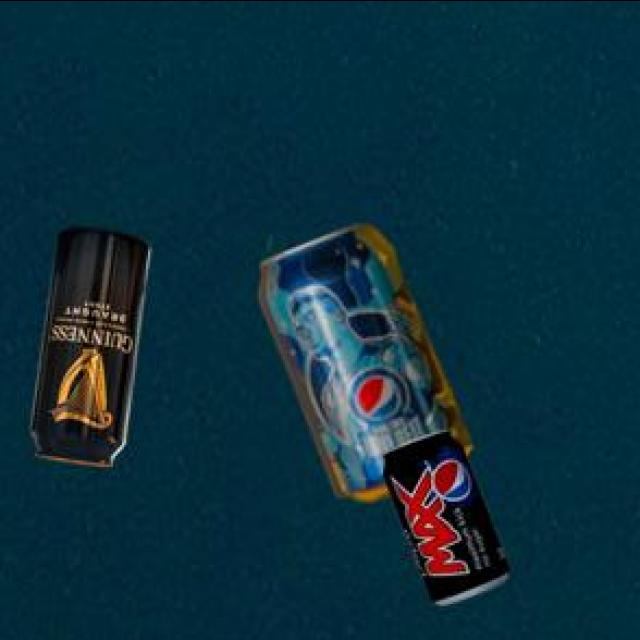logam: (264, 221, 476, 495), (34, 223, 153, 463), (386, 428, 513, 602)
